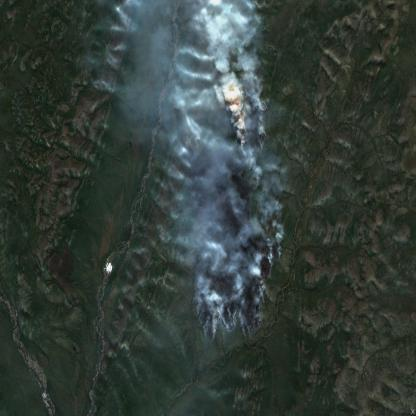fire: (181, 91, 286, 349)
